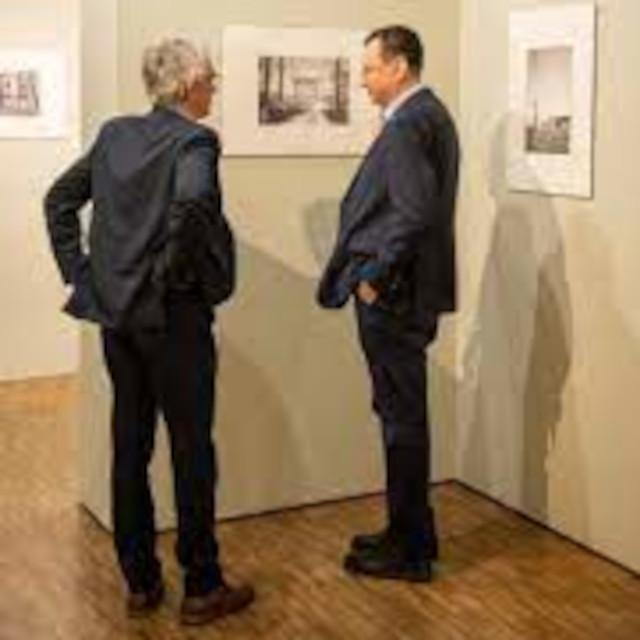mezczyzna: (44, 33, 266, 614), (306, 20, 465, 574)
